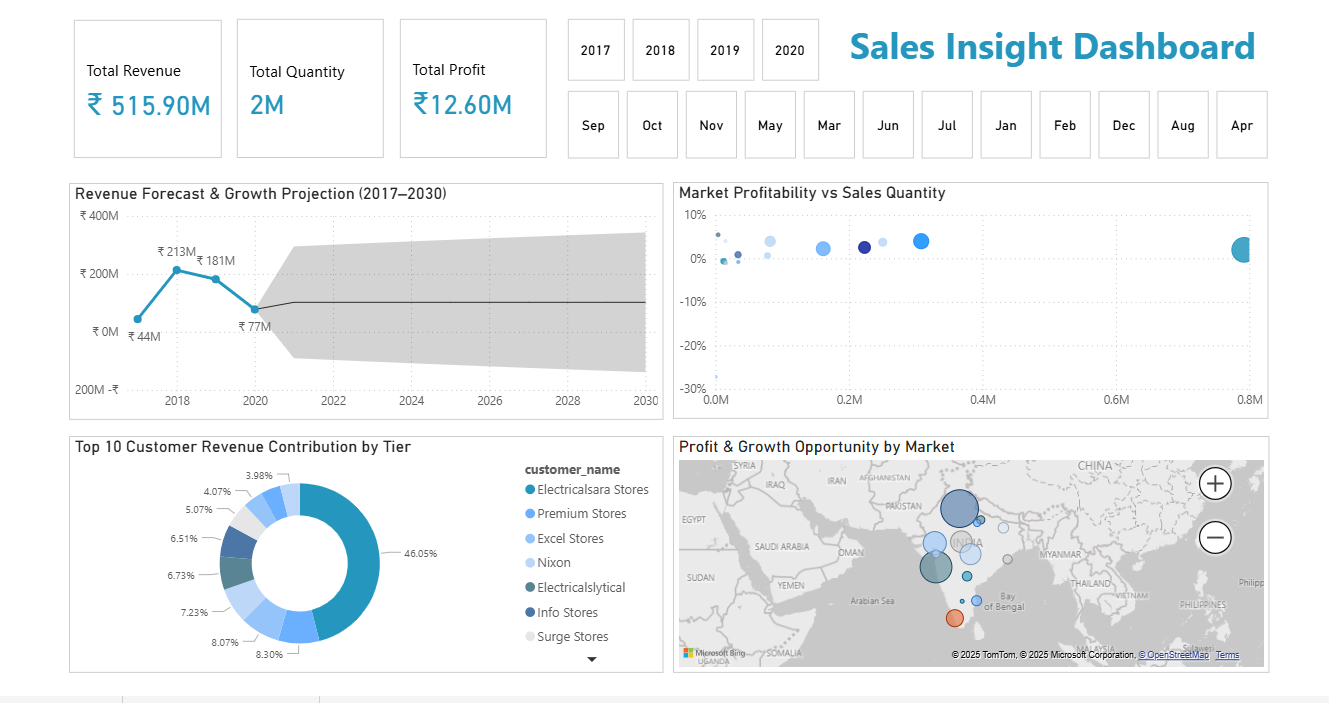

The dashboard page shown, as its layout file describes it:
{"tool":"powerbi","page":{"name":"Forecast & Opportunities","canvas":[1280,720],"ordinal":2},"visuals":[{"type":"cardVisual","fields":{"Data":["sales_cleaned.Total Revenue"]},"box":[21.7,15,163.3,153.3],"z":0},{"type":"cardVisual","fields":{"Data":["sales sales_cleaned.sales_qty"]},"box":[190,14.3,162.9,154.3],"z":1000},{"type":"cardVisual","fields":{"Data":["sales_cleaned.Total Profit"]},"box":[358.6,14.3,162.9,154.3],"z":2000},{"type":"advancedSlicerVisual","fields":{"Values":["sales sales_cleaned.year"]},"box":[532.9,14.3,272.9,74.3],"z":3000},{"type":"advancedSlicerVisual","fields":{"Values":["sales sales_cleaned.month_name"]},"box":[532.9,88.6,740,80],"z":4000},{"type":"lineChart","title":"Revenue Forecast & Growth Projection (2017–2030)","fields":{"Category":["sales_cleaned.order_date.Variation.Date Hierarchy.Year","sales_cleaned.order_date.Variation.Date Hierarchy.Month"],"Y":["sales_cleaned.Total Revenue"]},"box":[21.5,189.2,615.4,245],"z":5000},{"type":"scatterChart","title":"Market Profitability vs Sales Quantity","fields":{"X":["sales_cleaned.sales_qty"],"Y":["sales_cleaned.Profit Margin %"],"Size":["sales_cleaned.Total Revenue"],"Series":["sales_cleaned.market_name"]},"box":[646.2,188.8,616.2,245],"z":6000},{"type":"donutChart","title":"Top 10 Customer Revenue Contribution by Tier","fields":{"Category":["sales_cleaned.customer_name"],"Y":["sales_cleaned.Total Revenue"]},"box":[21.5,450.8,615.4,244.6],"z":7000},{"type":"map","title":"Profit & Growth Opportunity by Market","fields":{"Category":["sales_cleaned.market_name"],"Size":["sales_cleaned.Total Profit"],"Series":["sales_cleaned.market_name"]},"box":[646.2,450.8,616.9,244.6],"z":8000},{"type":"textbox","box":[816.7,15,446.7,73.3],"z":9000}]}

Visuals, with their boxes on the page's 1280x720 design canvas (x1, y1, x2, y2). These are canvas units, not pixel positions in the 1329x703 screenshot, which may show the page scaled, cropped or inside an application window:
cardVisual - sales_cleaned.Total Revenue: <bbox>22, 15, 185, 168</bbox>
cardVisual - sales sales_cleaned.sales_qty: <bbox>190, 14, 353, 169</bbox>
cardVisual - sales_cleaned.Total Profit: <bbox>359, 14, 522, 169</bbox>
advancedSlicerVisual - sales sales_cleaned.year: <bbox>533, 14, 806, 89</bbox>
advancedSlicerVisual - sales sales_cleaned.month_name: <bbox>533, 89, 1273, 169</bbox>
"Revenue Forecast & Growth Projection (2017–2030)" lineChart: <bbox>22, 189, 637, 434</bbox>
"Market Profitability vs Sales Quantity" scatterChart: <bbox>646, 189, 1262, 434</bbox>
"Top 10 Customer Revenue Contribution by Tier" donutChart: <bbox>22, 451, 637, 695</bbox>
"Profit & Growth Opportunity by Market" map: <bbox>646, 451, 1263, 695</bbox>
textbox: <bbox>817, 15, 1263, 88</bbox>
